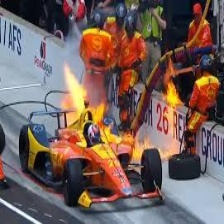fire: (59, 67, 181, 161)
